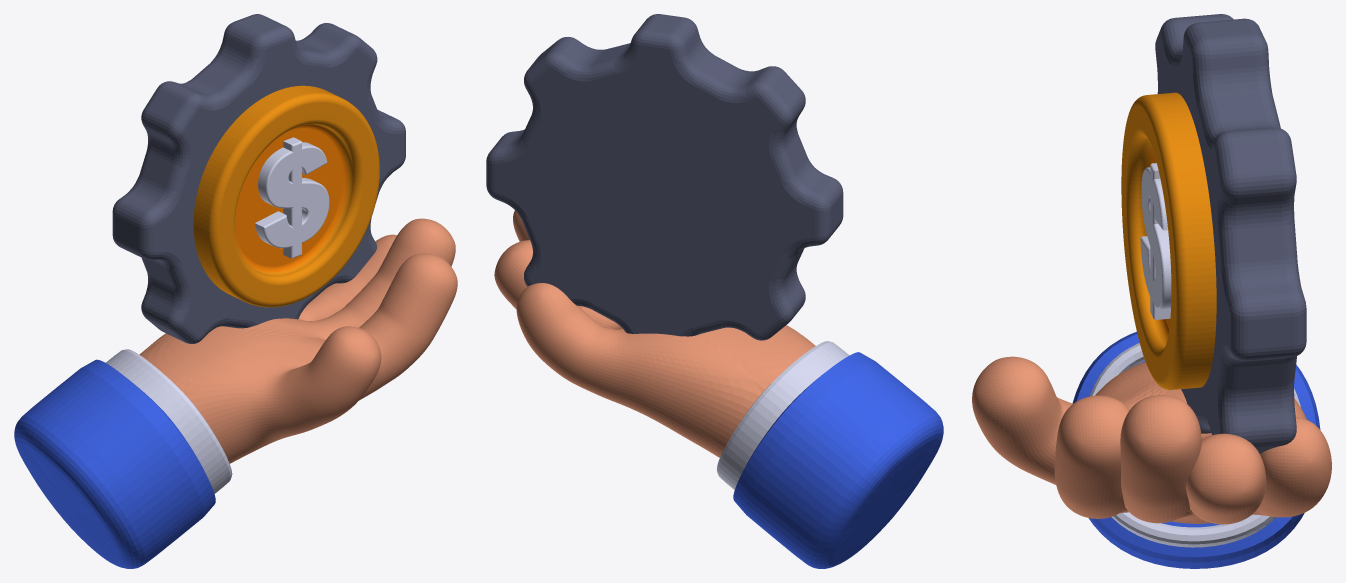
3 views of the same model, side by side, from view 1: azimuth 30°, elevation 25°; view 2: azimuth 150°, elevation 25°; view 3: azimuth 270°, elevation 25° (orthographic). The views are drawn at different scales.
Visible parts, largest first — view 1: Circle.012, Vert.010, Vert.009, Cylinder.072, Text.018, Vert.011; view 2: Circle.012, Vert.009, Vert.010, Vert.011; view 3: Circle.012, Vert.010, Cylinder.072, Vert.009, Vert.011, Text.018.
Part boxes in pixels (x1,y1,x2,y2): Circle.012: (112, 14, 405, 343); Vert.010: (139, 218, 457, 463); Vert.009: (14, 359, 215, 568); Cylinder.072: (193, 85, 379, 307); Text.018: (255, 137, 329, 258); Vert.011: (106, 349, 232, 493); Circle.012: (486, 14, 843, 340); Vert.009: (733, 352, 943, 568); Vert.010: (494, 210, 815, 457); Vert.011: (717, 341, 849, 489); Circle.012: (1155, 14, 1306, 453); Vert.010: (972, 356, 1331, 524); Cylinder.072: (1121, 92, 1216, 389); Vert.009: (1072, 331, 1320, 568); Vert.011: (1089, 343, 1300, 547); Text.018: (1140, 163, 1171, 319).
Bounding box in the file's own units: 2.52 × 2.92 × 1.49.
